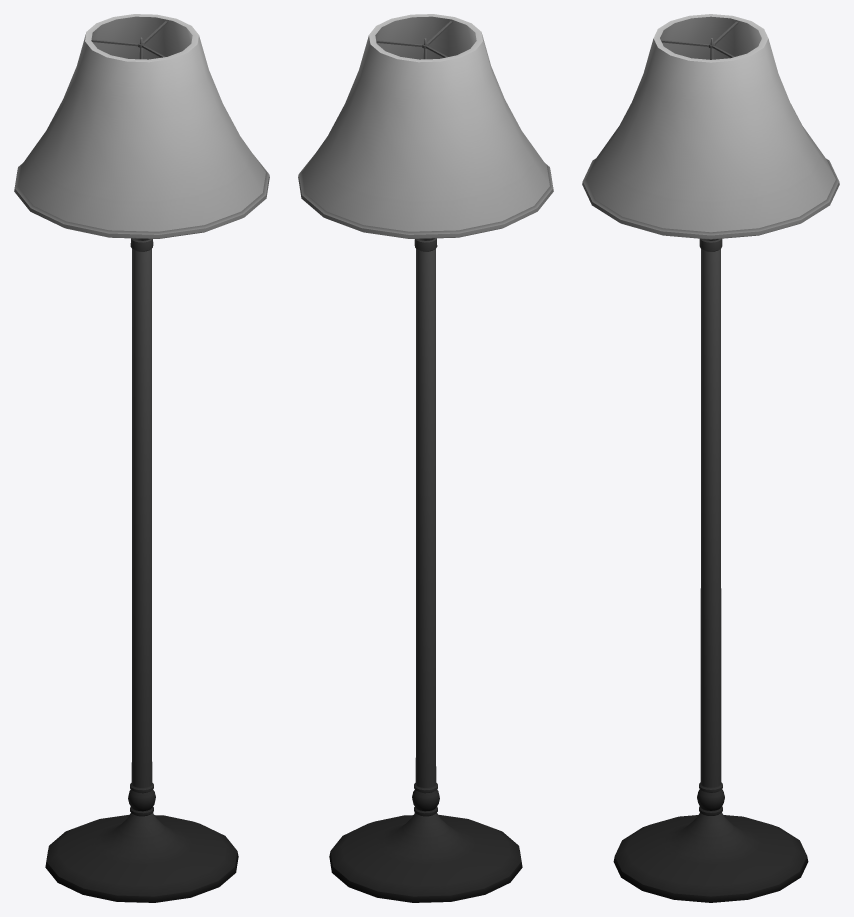
Rendered from Lamp_02.fbx.
The picture shows the model from 3 angles, left to right: view 1: azimuth 30°, elevation 25°; view 2: azimuth 150°, elevation 25°; view 3: azimuth 270°, elevation 25°; orthographic projection.
Visible parts, largest first — view 1: Lamp_2; view 2: Lamp_2; view 3: Lamp_2.
Boxes of the visible parts, bbox=[...] form: Lamp_2: bbox=[14, 14, 269, 902]; Lamp_2: bbox=[298, 14, 553, 902]; Lamp_2: bbox=[582, 14, 839, 902].
Bounding box in the file's own units: 0.4572 × 1.61 × 0.4572.
